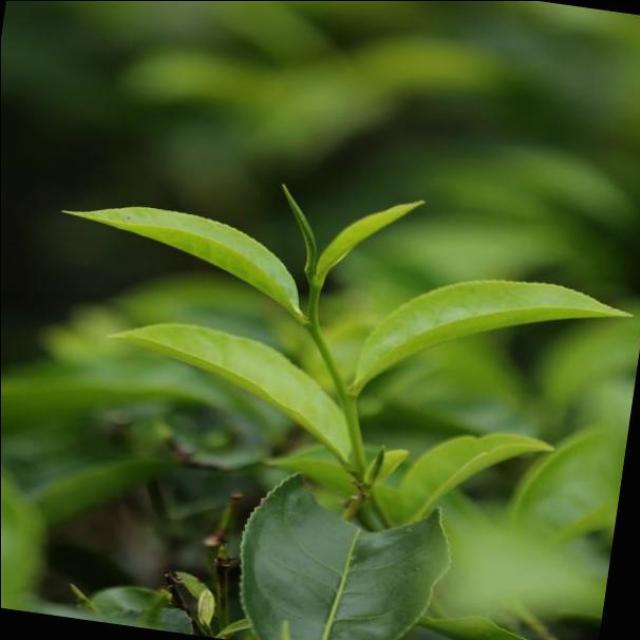Stem: (305, 316, 317, 329)
